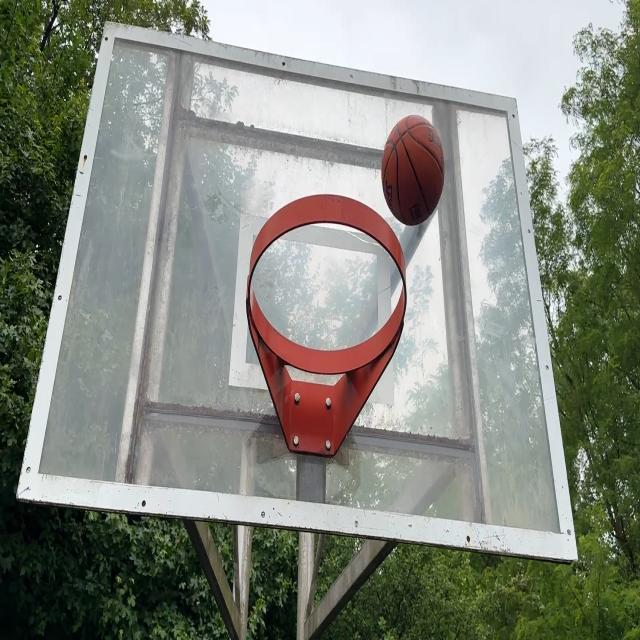rebound_hit: (381, 115, 445, 225)
